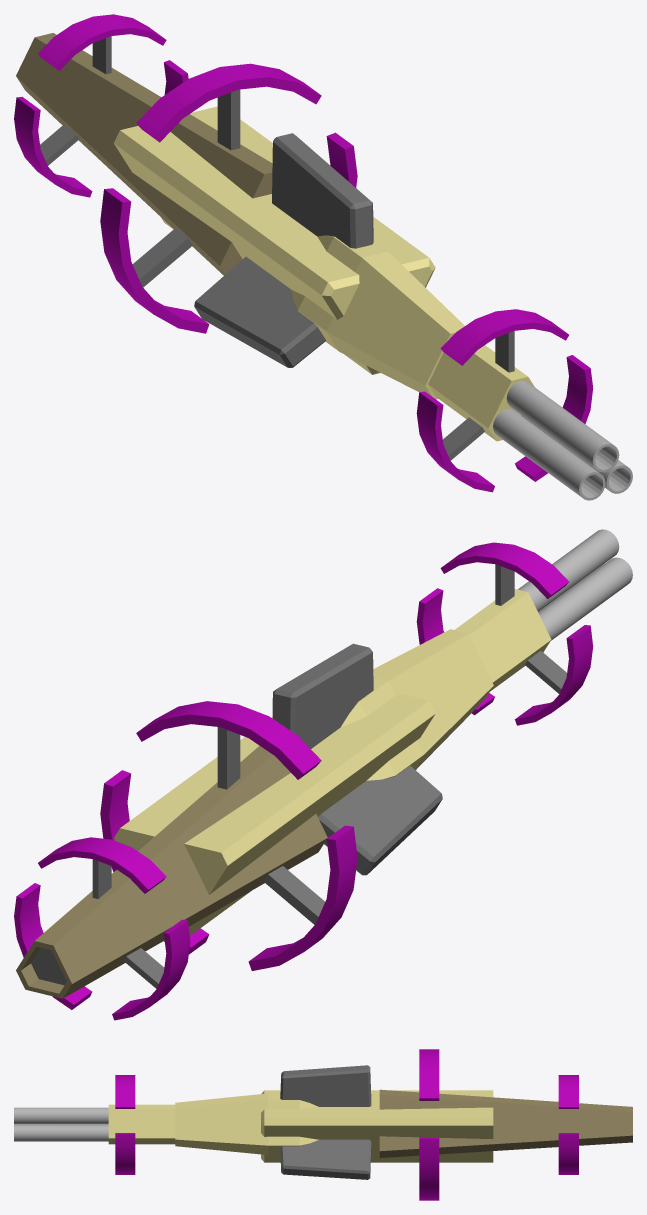
File: Float TriRifle.fbx
3 renders of one model, top to bottom at view 1: azimuth 30°, elevation 25°; view 2: azimuth 150°, elevation 25°; view 3: azimuth 270°, elevation 25°, orthographic. The views are drawn at different scales.
Visible parts, largest first — view 1: pCylinder2, pCylinder5, pCylinder4, pCube13, pCube3, polySurface10, pCylinder3, pasted__pCylinder4, pasted__pCylinder3, polySurface9, polySurface7, polySurface2 (+10 smaller); view 2: pCylinder5, pCylinder2, pCylinder4, pCube13, pCube3, pCylinder3, polySurface10, polySurface9, pasted__pCylinder4, polySurface2, polySurface7, pasted__pCylinder3 (+10 smaller); view 3: pCylinder5, pCylinder2, pCylinder4, pCube3, pCube4, pCylinder3, pasted__pCylinder3, pasted__pCylinder5, polySurface8, polySurface10, polySurface5, polySurface4 (+2 smaller).
Part boxes in pixels (x1,y1,x2,y2): pCylinder2: (114,106,435,374); pCylinder5: (16,33,272,275); pCylinder4: (291,235,464,399); pCube13: (194,256,325,367); pCube3: (272,133,373,248); polySurface10: (136,63,321,142); pCylinder3: (428,345,534,441); pasted__pCylinder4: (493,409,605,500); pasted__pCylinder3: (506,381,619,472); polySurface9: (100,188,209,333); polySurface7: (38,14,166,70); polySurface2: (440,309,568,365); pCylinder5: (16,745,327,998); pCylinder2: (114,693,435,942); pCylinder4: (341,629,493,780); pCube13: (318,765,442,875); pCube3: (272,643,373,748); pCylinder3: (455,589,551,691); polySurface10: (136,701,321,779); polySurface9: (248,825,357,970); pasted__pCylinder4: (538,557,632,640); polySurface2: (440,542,568,598); polySurface7: (38,837,166,893); pasted__pCylinder3: (518,529,619,611); pCylinder5: (379,1089,632,1157); pCylinder2: (261,1090,493,1162); pCylinder4: (175,1093,318,1154); pCube3: (280,1065,371,1106); pCube4: (280,1139,371,1179); pCylinder3: (108,1104,175,1144); pasted__pCylinder3: (14,1107,108,1124); pasted__pCylinder5: (14,1125,108,1141); polySurface8: (419,1137,439,1200); polySurface10: (419,1049,439,1100); polySurface5: (558,1133,578,1174); polySurface4: (115,1133,135,1174).
Bounding box in the file's own units: 3.27 × 3.21 × 13.3.
